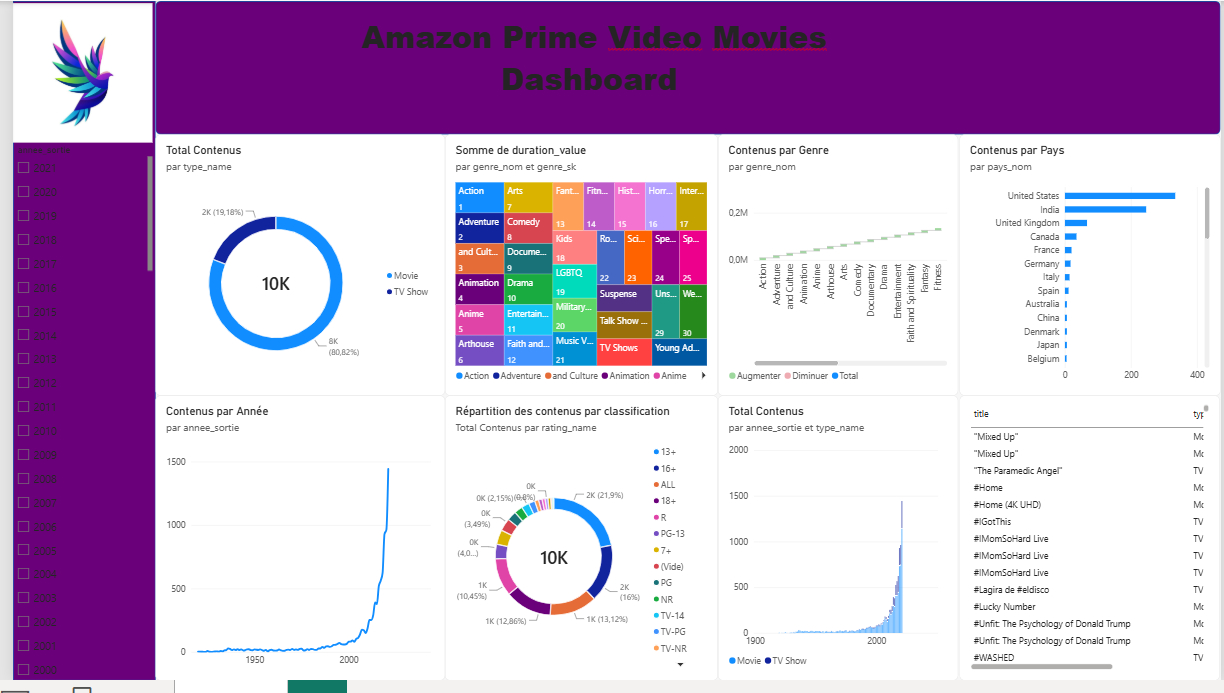

This screenshot's page, from the dashboard's own definition file:
{"tool":"powerbi","page":{"name":"Page 1","canvas":[1920,1080],"ordinal":0},"visuals":[{"type":"shape","box":[226.7,0,1694,212.3],"z":0},{"type":"shape","box":[0,0,226.7,1080.8],"z":1000},{"type":"image","box":[0,0,221.9,229],"z":2000},{"type":"donutChart","fields":{"Category":["Dim_Type.type_name"],"Y":["Mesure.Total Contenus"]},"box":[226.7,212.3,460.5,415.1],"z":3000},{"type":"lineChart","fields":{"Category":["Dim_AnneeSortie.annee_sortie"],"Y":["Mesure.Contenus par Année"]},"box":[226.7,627.5,460.5,453.3],"z":4000},{"type":"waterfallChart","fields":{"Category":["Dim_Genre.genre_nom"],"Y":["Mesure.Contenus par Genre"]},"box":[1121.4,212.3,381.7,415.1],"z":5000},{"type":"clusteredBarChart","fields":{"Category":["Dim_Pays.pays_nom"],"Y":["Mesure.Contenus par Pays"]},"box":[1505.5,212.3,415.1,415.1],"z":6000},{"type":"donutChart","title":"Répartition des contenus par classification","fields":{"Category":["Dim_Rating.rating_name"],"Y":["Mesure.Total Contenus"]},"box":[687.1,627.5,434.2,453.3],"z":6001},{"type":"columnChart","fields":{"Category":["Dim_AnneeSortie.annee_sortie"],"Series":["Dim_Type.type_name"],"Y":["Mesure.Total Contenus"]},"box":[1121,627,382,453],"z":6003},{"type":"treemap","fields":{"Details":["Bridge_Contenu_Genre.genre_sk"],"Group":["Dim_Genre.genre_nom"],"Values":["Sum(Fait_Contenu.duration_value)"]},"box":[687.1,212.3,434.2,415.1],"z":6004},{"type":"slicer","fields":{"Values":["Dim_AnneeSortie.annee_sortie"]},"box":[0,229,221.9,851.8],"z":6005},{"type":"tableEx","fields":{"Values":["Fait_Contenu.title","Dim_Type.type_name","Dim_Genre.genre_nom"]},"box":[1506,627,414,453],"z":6006},{"type":"textbox","title":"Analyse des ","box":[434.2,21.5,980.6,379.4],"z":6007}]}

Visuals, with their boxes in screenshot pixels (x1, y1, x2, y2):
shape: bbox(152, 0, 1217, 130)
shape: bbox(10, 0, 152, 676)
image: bbox(10, 0, 149, 141)
donutChart - Dim_Type.type_name x Mesure.Total Contenus: bbox(152, 130, 442, 391)
lineChart - Dim_AnneeSortie.annee_sortie x Mesure.Contenus par Année: bbox(152, 391, 442, 676)
waterfallChart - Dim_Genre.genre_nom x Mesure.Contenus par Genre: bbox(715, 130, 955, 391)
clusteredBarChart - Dim_Pays.pays_nom x Mesure.Contenus par Pays: bbox(956, 130, 1217, 391)
"Répartition des contenus par classification" donutChart: bbox(442, 391, 715, 676)
columnChart - Dim_AnneeSortie.annee_sortie x Dim_Type.type_name: bbox(714, 391, 954, 676)
treemap - Bridge_Contenu_Genre.genre_sk x Dim_Genre.genre_nom: bbox(442, 130, 715, 391)
slicer - Dim_AnneeSortie.annee_sortie: bbox(10, 141, 149, 676)
tableEx - Fait_Contenu.title x Dim_Type.type_name: bbox(956, 391, 1217, 676)
"Analyse des " textbox: bbox(283, 10, 899, 249)
